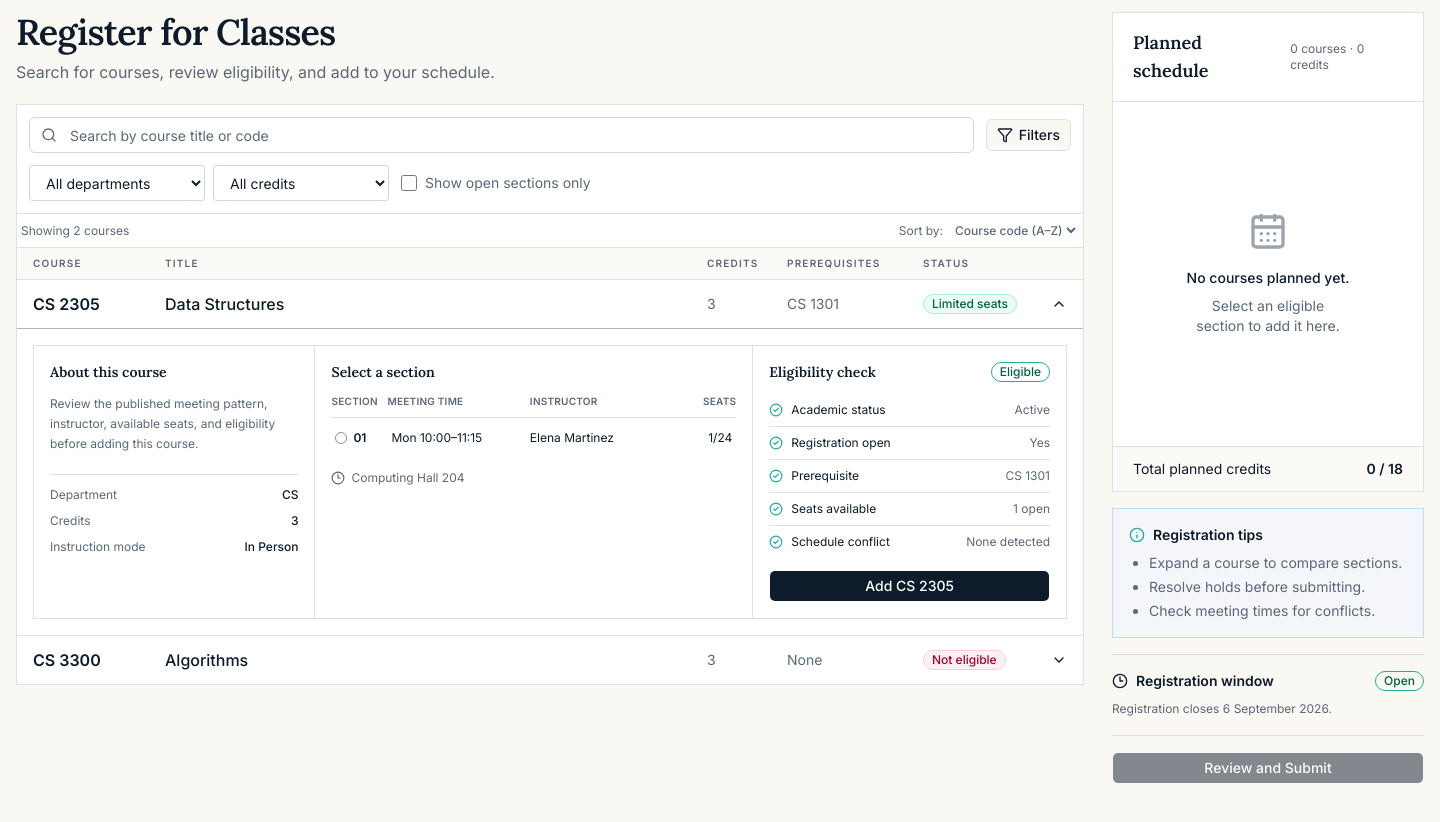
Test: RegistrationExperience › filters courses by code or title
Type "Algorithms" into the search field named "Course search" at (501, 135), box [29, 117, 974, 153]
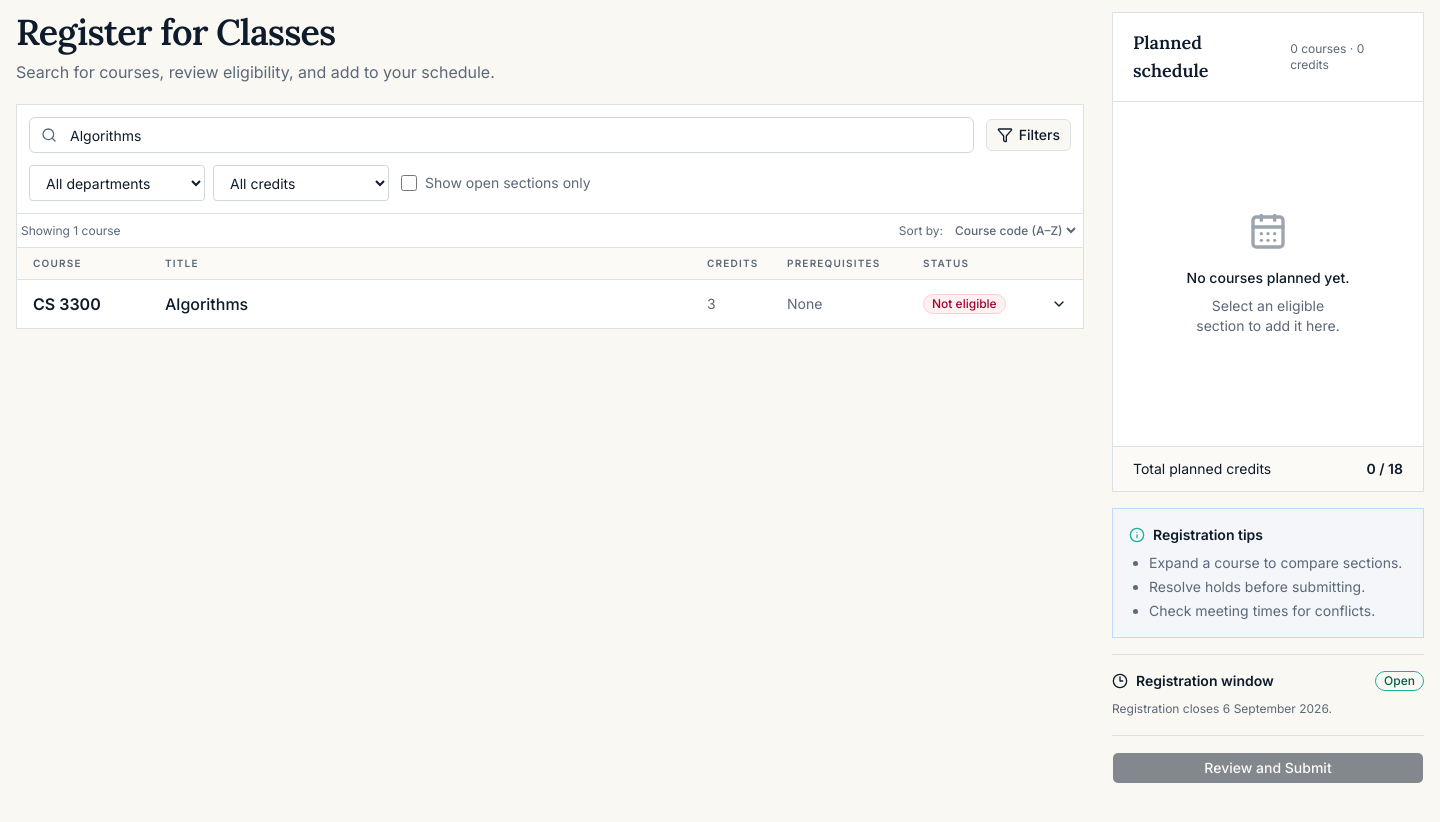
Expected: the text "Algorithms" is shown, [165, 294, 248, 314]
Result: the button "Data Structures" is gone
